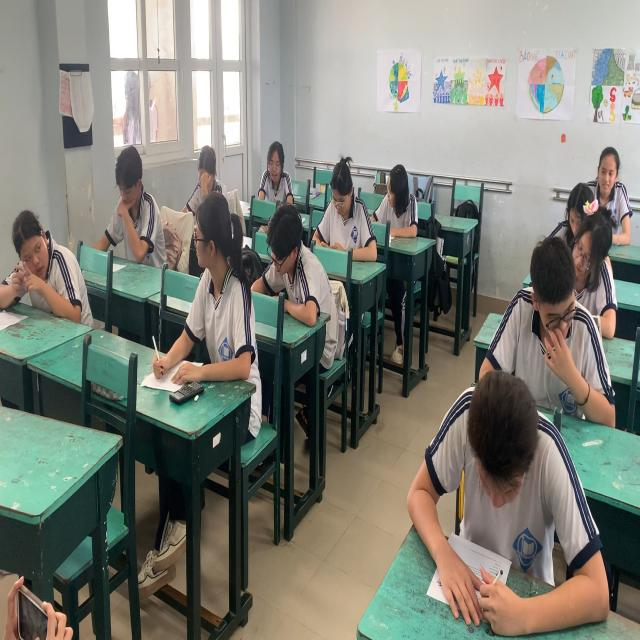cheating: (184, 197, 253, 383), (0, 203, 85, 331), (375, 155, 422, 238)
not_cheating: (435, 386, 581, 621), (517, 249, 593, 400), (95, 141, 159, 270), (264, 203, 323, 317), (315, 159, 371, 259), (247, 132, 299, 210), (592, 155, 632, 252), (567, 196, 606, 282), (181, 141, 221, 197)
